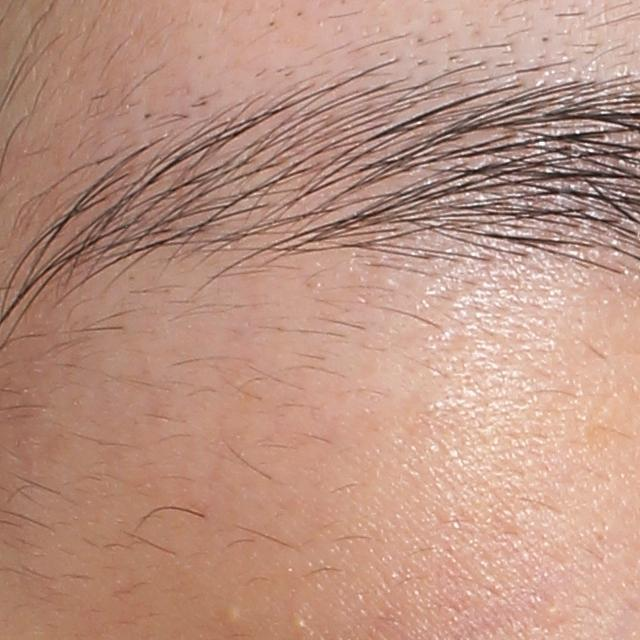other: (217, 601, 242, 625), (289, 615, 307, 629)
